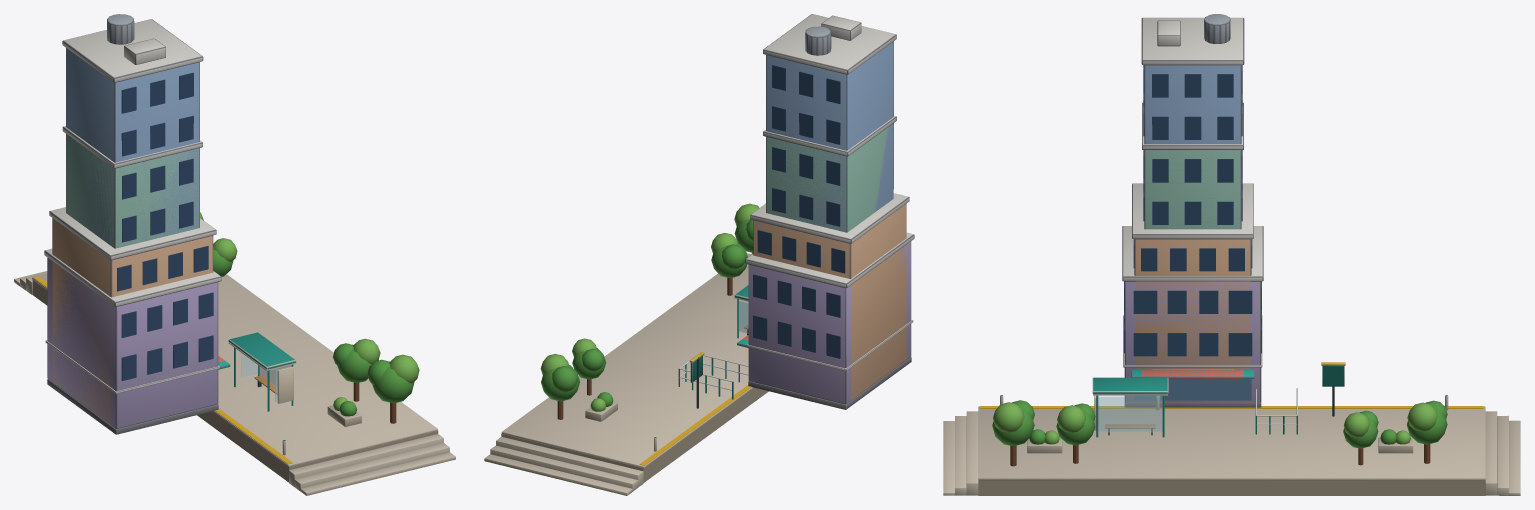
File: city.glb
3 views of the same model, side by side, from view 1: azimuth 30°, elevation 25°; view 2: azimuth 150°, elevation 25°; view 3: azimuth 270°, elevation 25° (orthographic). The views are drawn at different scales.
Parts seen in each view (by area): view 1: station, bld_2, bld_3, bld_0, bld_1; view 2: station, bld_3, bld_2, bld_0, bld_1; view 3: station, bld_0, bld_3, bld_2, bld_1.
Boxes of the visible parts, x1,y1,x2,y2 form: station: [14, 212, 455, 495]; bld_2: [44, 248, 230, 434]; bld_3: [62, 14, 203, 248]; bld_0: [49, 207, 224, 430]; bld_1: [62, 126, 202, 248]; station: [484, 203, 768, 495]; bld_3: [763, 14, 896, 232]; bld_2: [737, 232, 914, 409]; bld_0: [742, 193, 909, 405]; bld_1: [763, 116, 896, 232]; station: [943, 362, 1520, 495]; bld_0: [1132, 183, 1253, 407]; bld_3: [1141, 14, 1244, 228]; bld_2: [1122, 226, 1263, 407]; bld_1: [1142, 102, 1243, 369].
Size of the model in its own units: 14.62 by 21.59 by 29.59.
